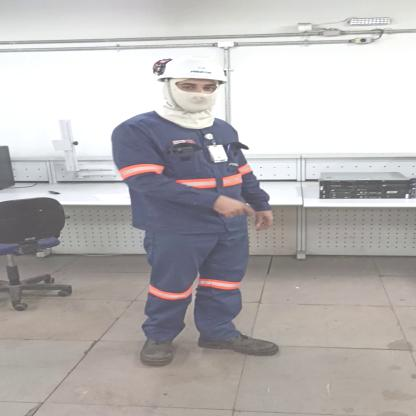Balaclava: (146, 76, 224, 131)
Capacete: (143, 56, 242, 83)
